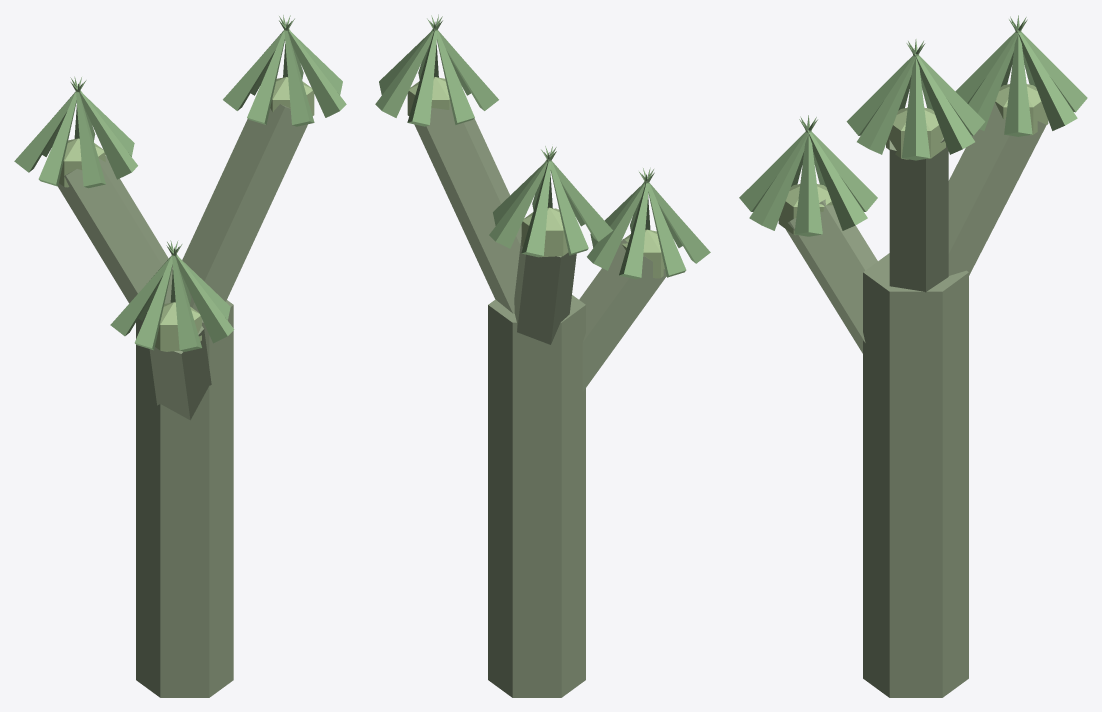
File: joshua_tree.glb
3 renders of one model, left to right at view 1: azimuth 30°, elevation 25°; view 2: azimuth 150°, elevation 25°; view 3: azimuth 270°, elevation 25°, orthographic. The views are drawn at different scales.
Parts seen in each view (by area): view 1: joshua_tree; view 2: joshua_tree; view 3: joshua_tree.
Boxes of the visible parts, bbox=[...] form: joshua_tree: bbox=[14, 15, 346, 697]; joshua_tree: bbox=[375, 14, 710, 697]; joshua_tree: bbox=[739, 15, 1087, 697].
Size of the model in its own units: 1.66 by 3.74 by 1.71.
